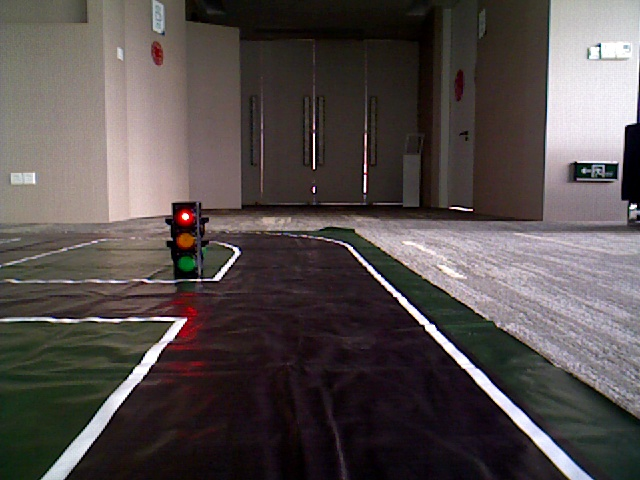red: (173, 202, 197, 269)
